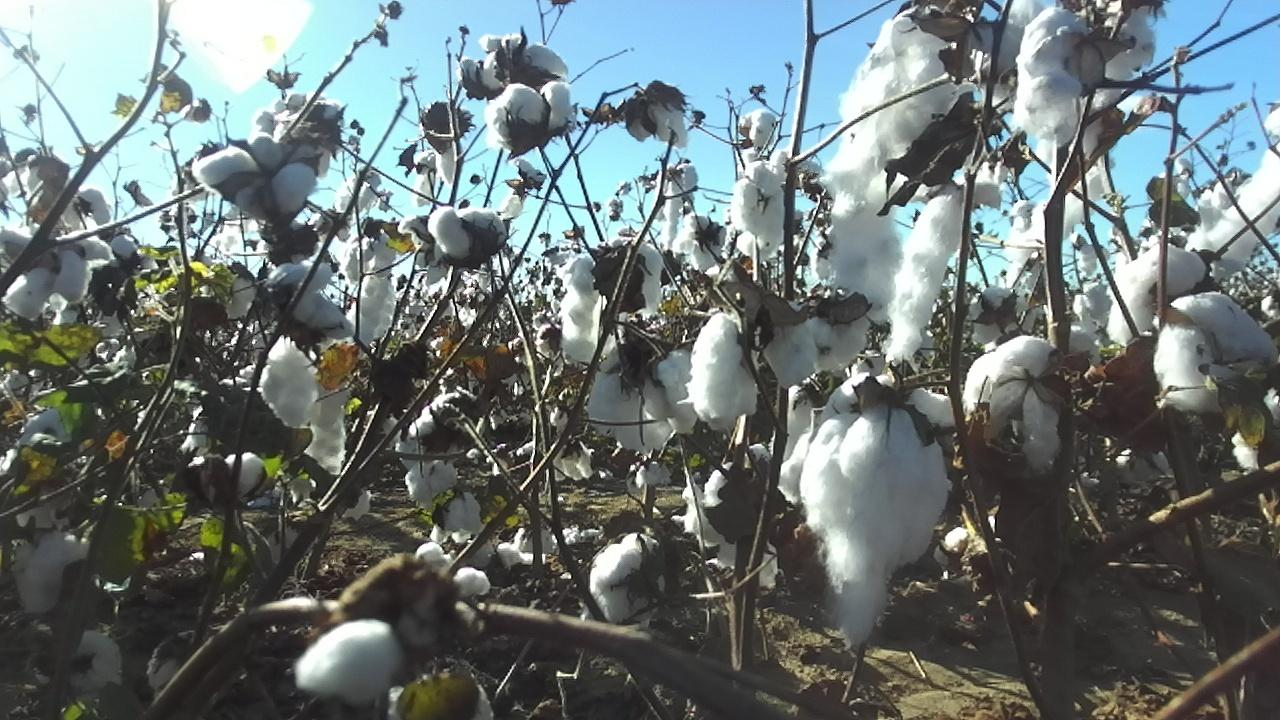cotton_ready: (814, 12, 964, 325), (801, 410, 952, 647), (888, 169, 1004, 363), (1153, 292, 1279, 418), (690, 310, 817, 425), (962, 339, 1059, 473), (561, 240, 660, 370), (704, 442, 784, 591), (0, 224, 109, 321), (192, 132, 315, 217), (1014, 4, 1092, 138), (588, 352, 695, 449), (1108, 244, 1205, 350), (1204, 142, 1280, 270), (296, 622, 407, 702), (588, 535, 667, 629), (825, 370, 954, 427), (267, 262, 352, 343), (1088, 14, 1157, 113), (13, 535, 92, 617), (412, 542, 487, 628), (484, 82, 572, 151), (257, 337, 322, 426), (345, 230, 394, 345), (733, 150, 785, 247), (483, 30, 572, 85), (431, 202, 507, 263), (304, 382, 354, 474), (388, 679, 495, 720), (185, 454, 269, 506), (817, 304, 874, 371), (970, 284, 1032, 345), (67, 630, 125, 695), (625, 90, 692, 146), (409, 390, 472, 447), (1230, 400, 1280, 471), (276, 104, 342, 155), (144, 637, 195, 699), (673, 215, 729, 270), (428, 494, 485, 545), (405, 457, 459, 510), (201, 267, 254, 318)
